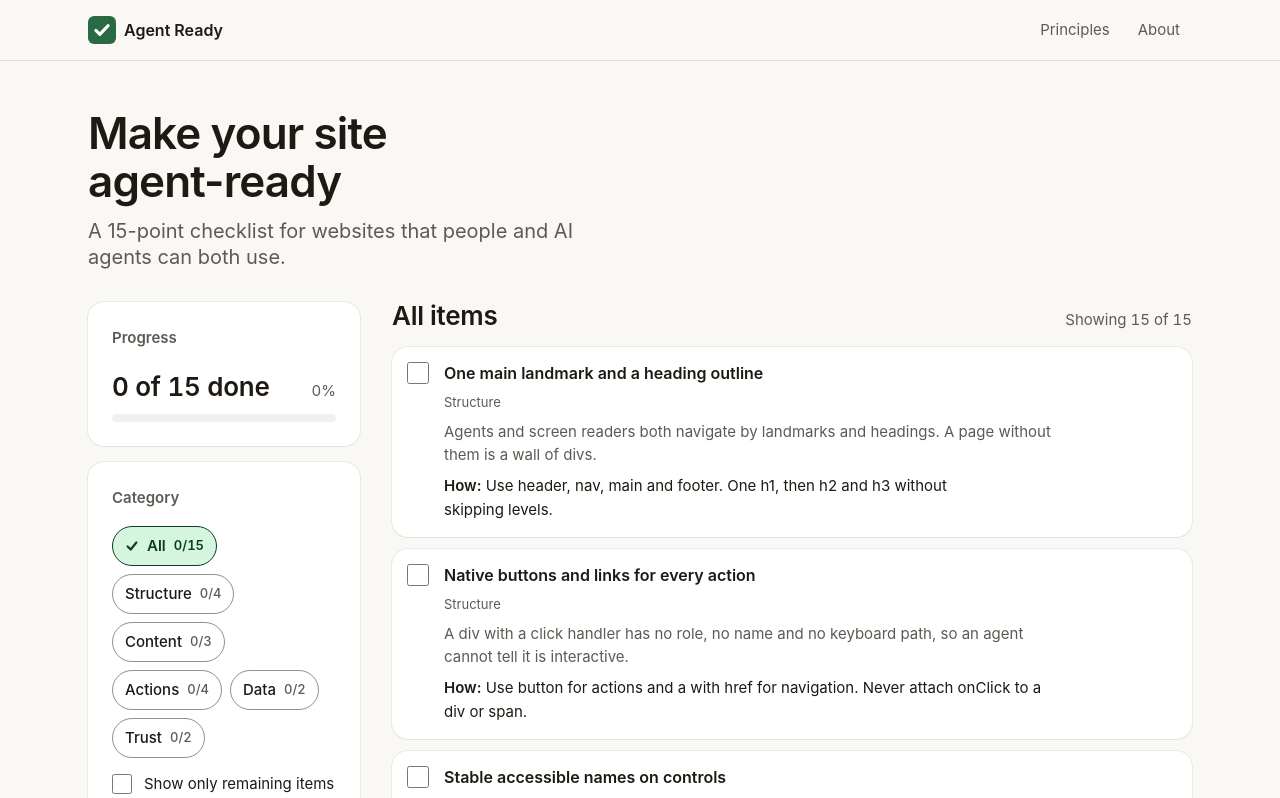
Test case: App › updates the score when items are ticked and persists them
Click the checkbox labelled "One main landmark and a heading outline" at (418, 373), box x1=407 y1=362 x2=429 y2=384
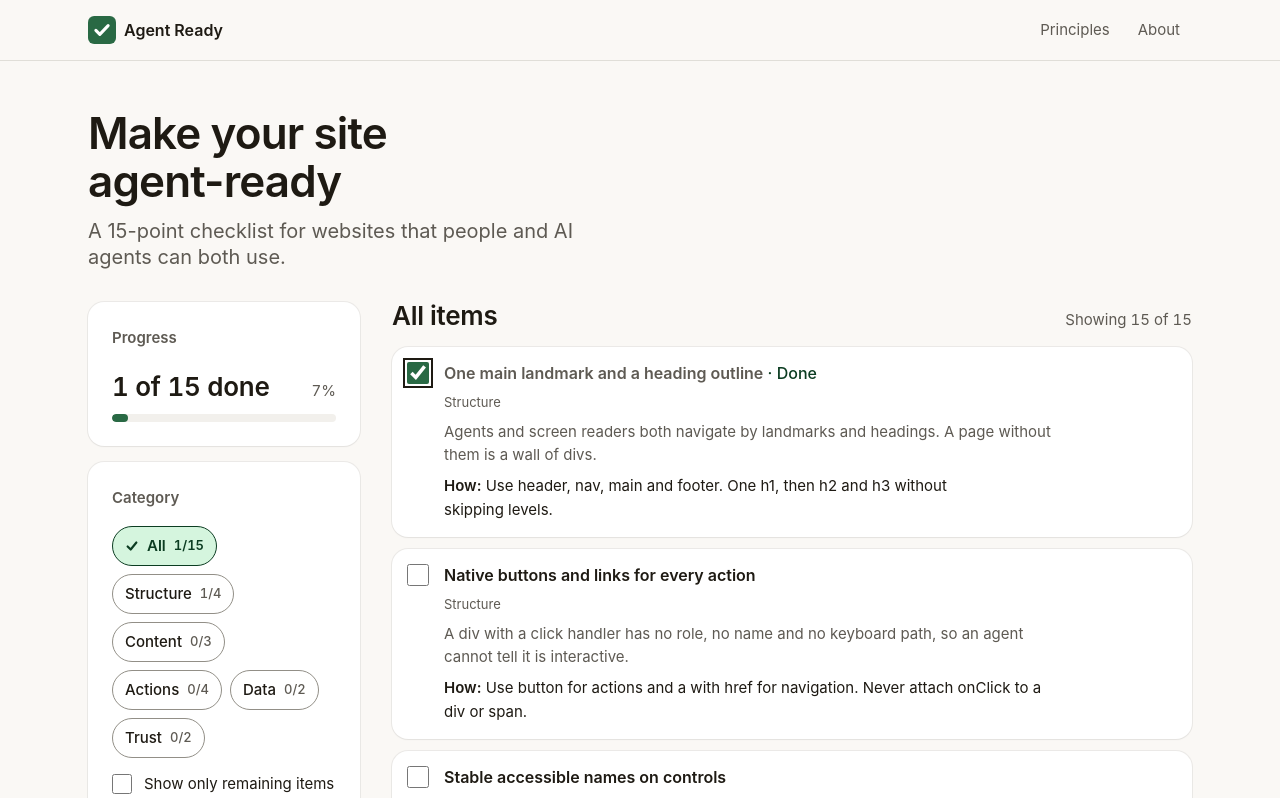
Check: the checkbox labelled "One main landmark and a heading outline" is checked
Click the checkbox labelled "One main landmark and a heading outline" at (418, 373), box x1=407 y1=362 x2=429 y2=384
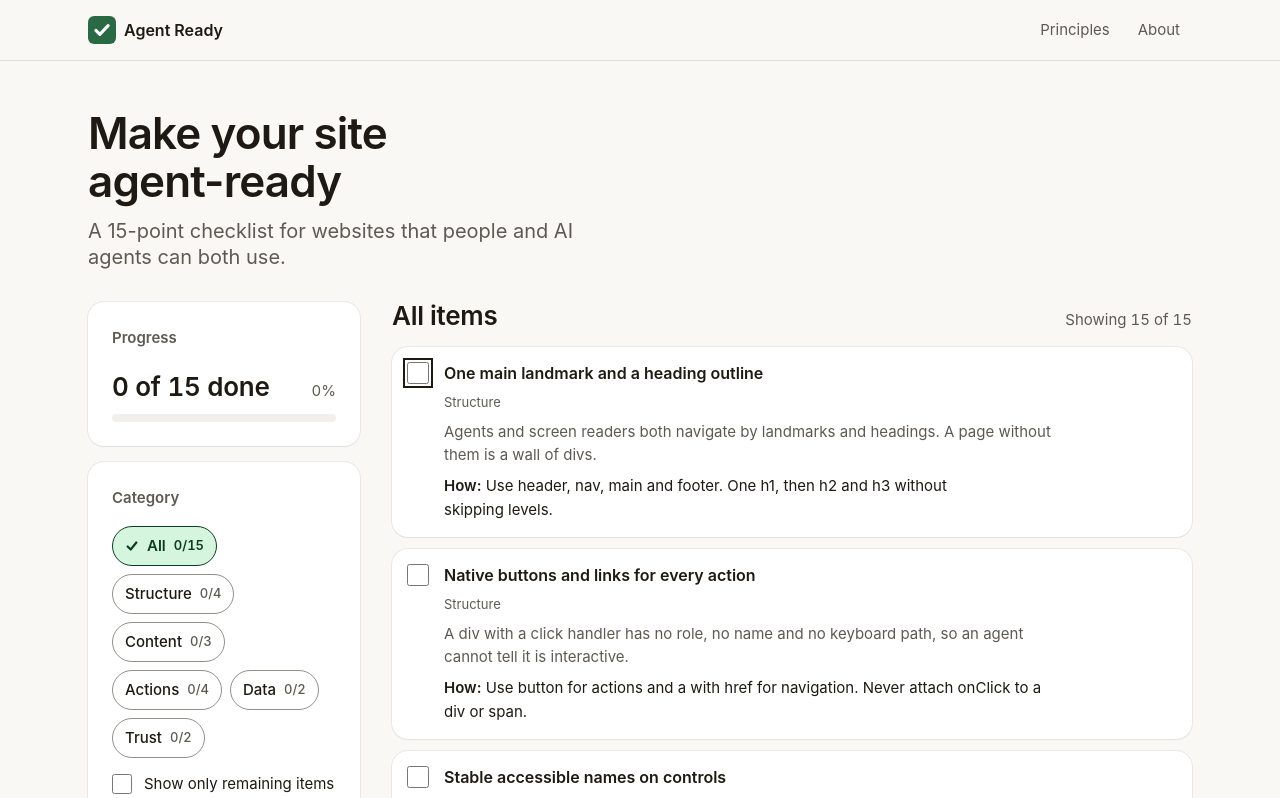
Check: the text "0 of 15 done" is shown, box x1=112 y1=373 x2=270 y2=402
